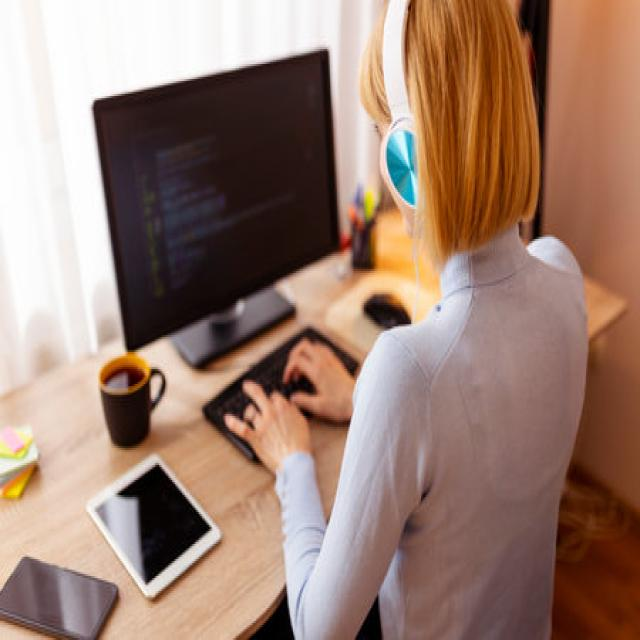desktop-person: (87, 2, 594, 640)
